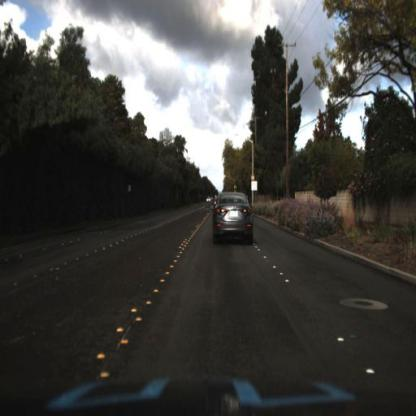car: (211, 187, 258, 247)
